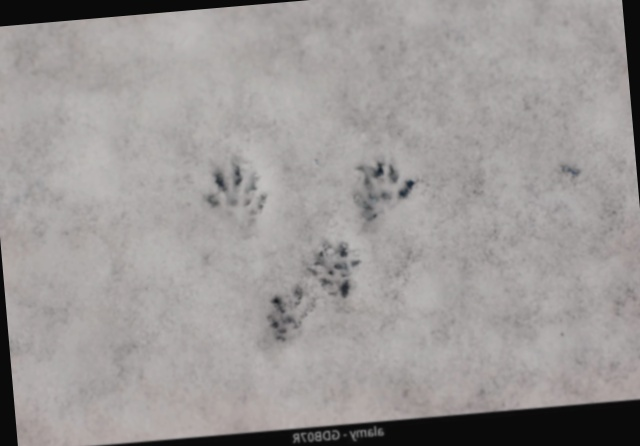ecureuil: (361, 145, 451, 242), (211, 155, 290, 242), (278, 236, 339, 317), (331, 279, 398, 344)
